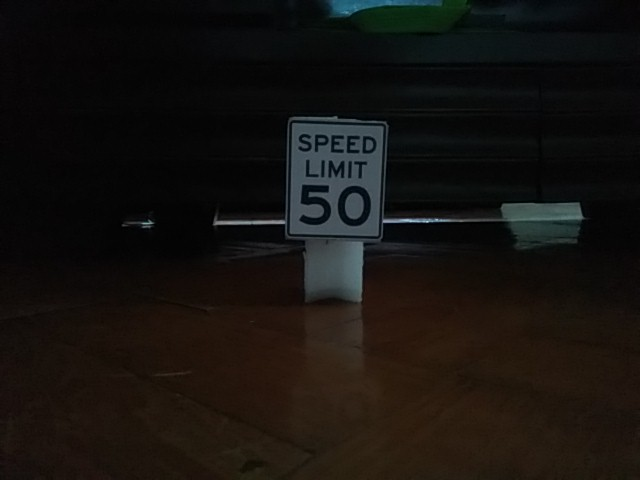Speed Limit 50: (284, 116, 389, 242)
